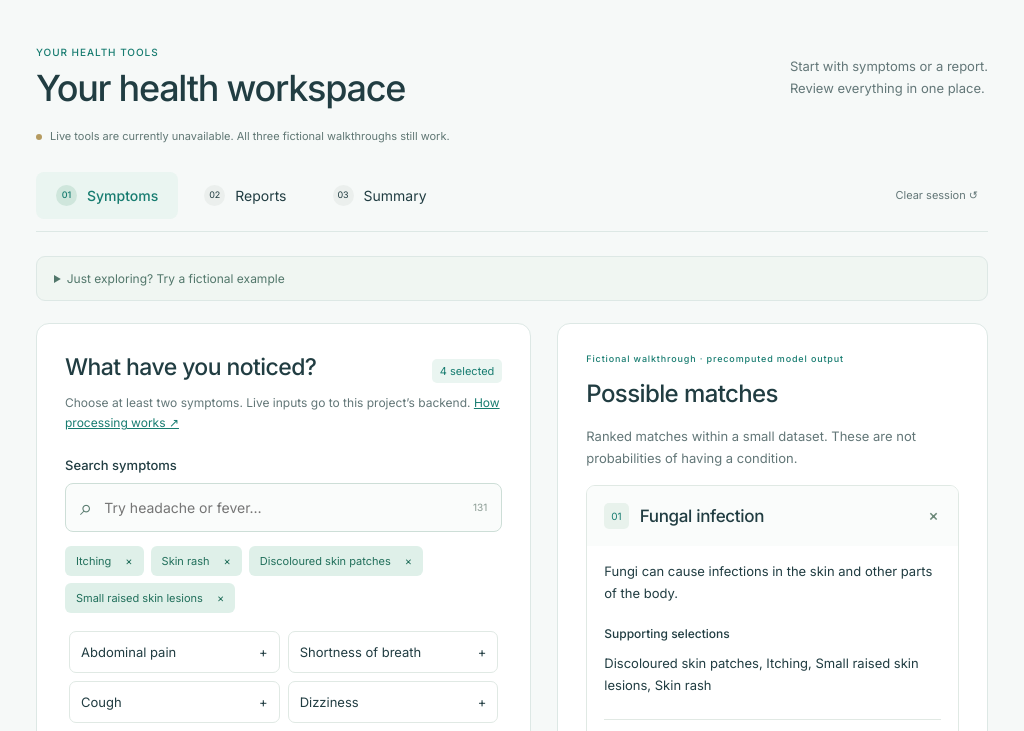
Test: health workspace › invalidates a sample result when its inputs change
Click the button with aria-label "Remove Itching": click(104, 561) [65,546,144,576]
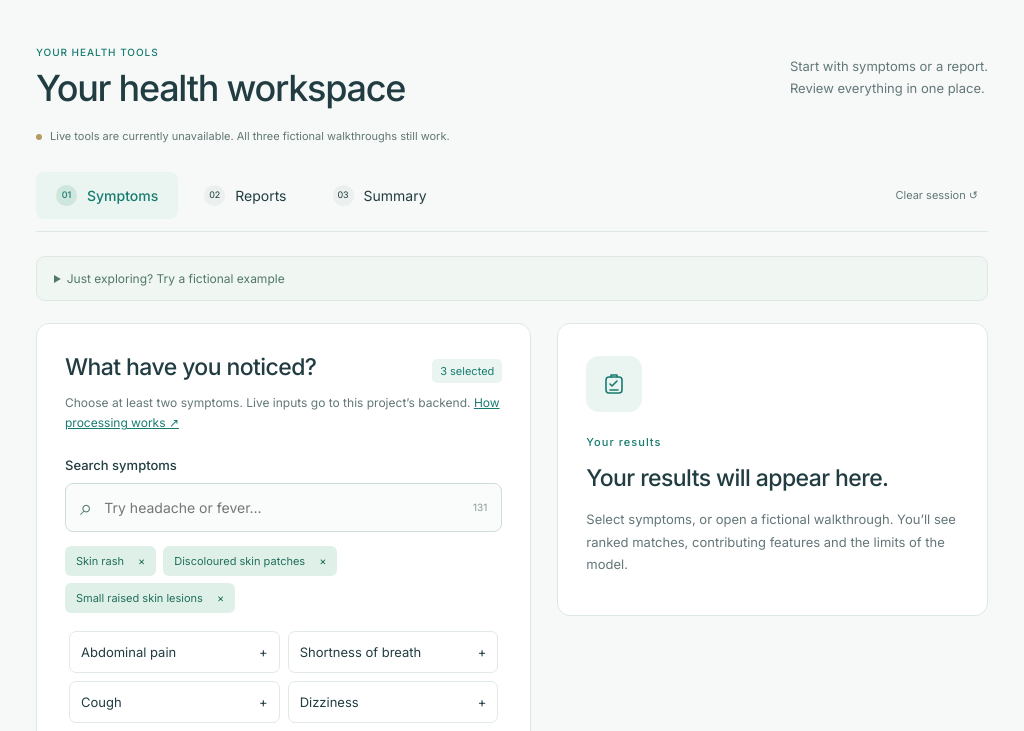
Expected: the text "Fictional walkthrough · precomputed model output" is gone
Expected: the heading "Your results will appear here." is shown, [586,464,888,492]
